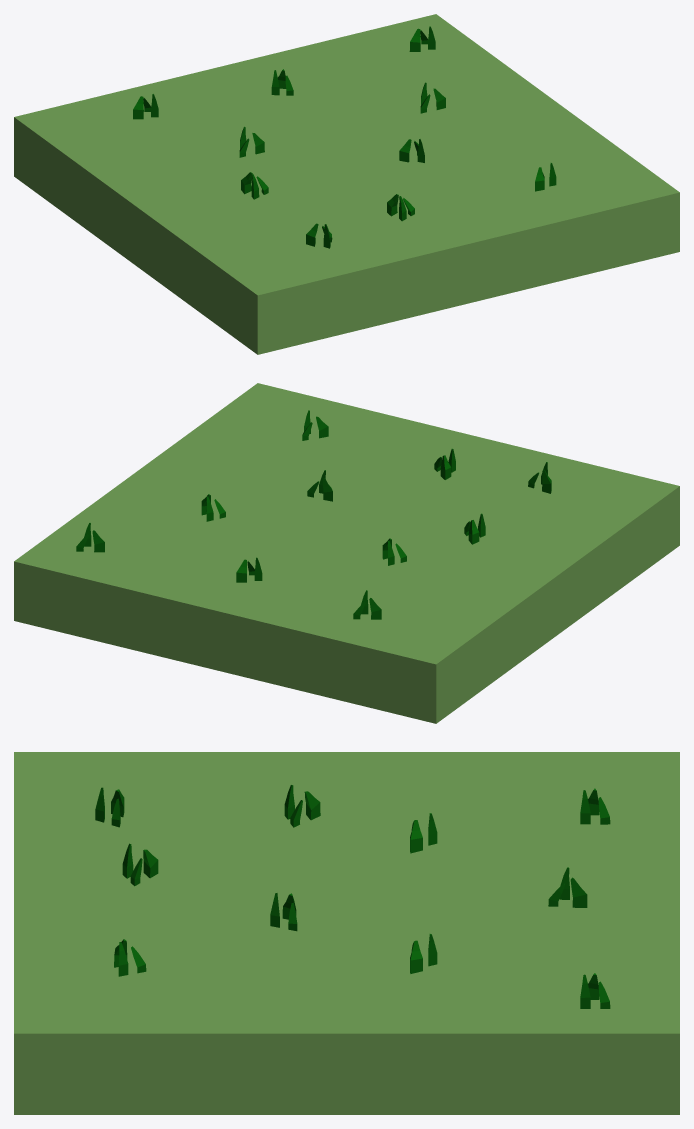
The model's file is grass.fbx.
The picture shows the model from 3 angles, top to bottom: view 1: azimuth 30°, elevation 25°; view 2: azimuth 150°, elevation 25°; view 3: azimuth 270°, elevation 25°; orthographic projection. The views are drawn at different scales.
Parts seen in each view (by area): view 1: Plane; view 2: Plane; view 3: Plane.
Boxes of the visible parts, x1,y1,x2,y2 form: Plane: (14,14,679,354); Plane: (14,383,679,723); Plane: (14,752,679,1114).
Size of the model in its own units: 465 by 86.84 by 465.
